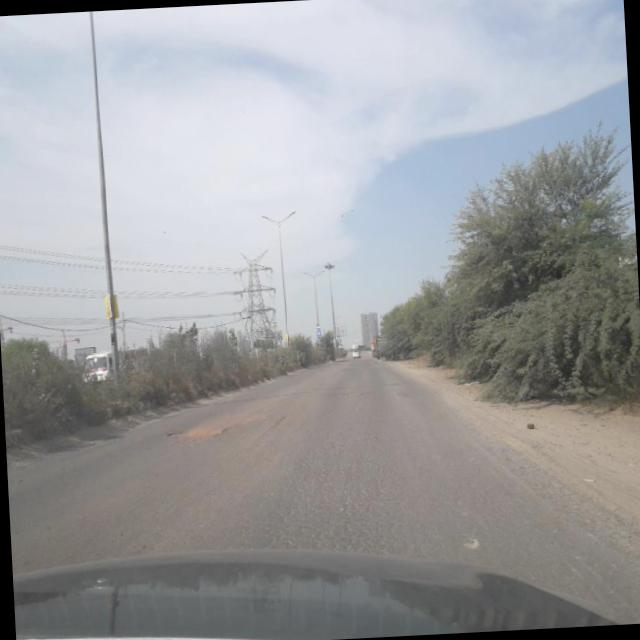crack: (202, 430, 492, 568)
pothole: (167, 398, 273, 449)
